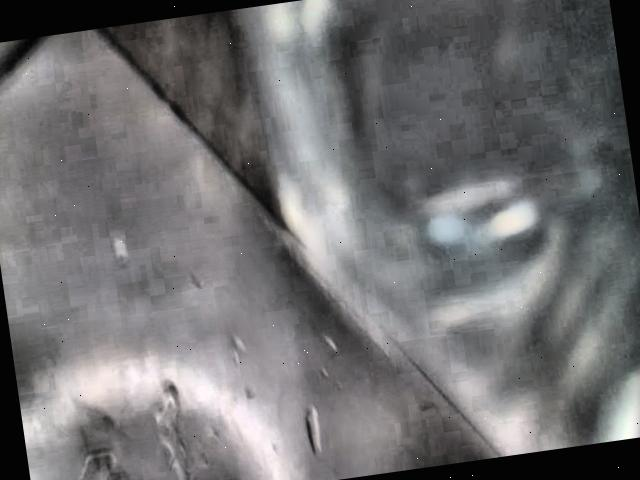Bottles: (223, 0, 640, 457)
